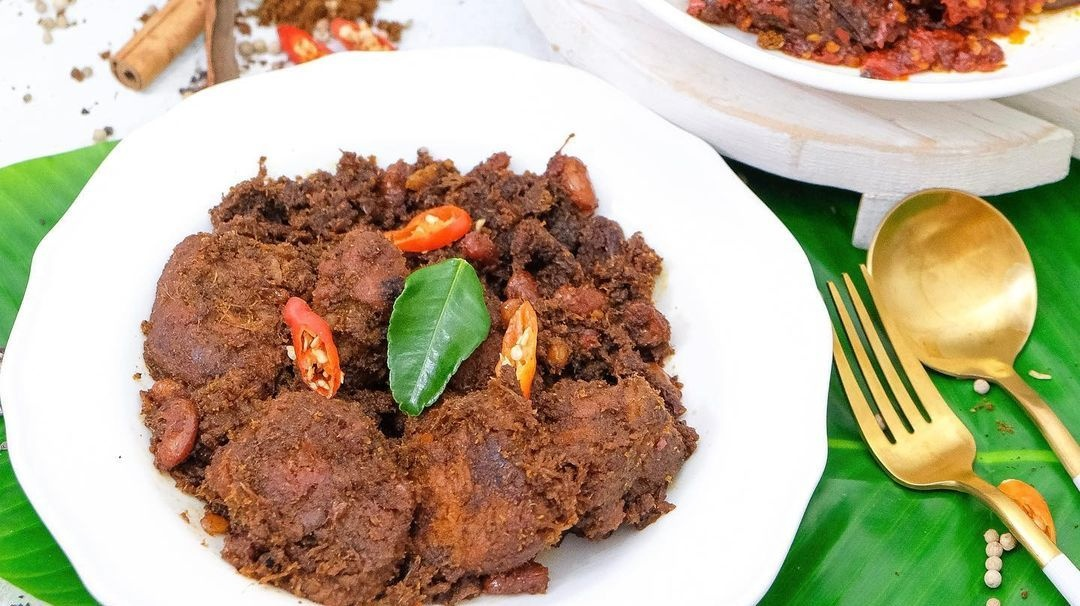rendang: (135, 117, 671, 605)
